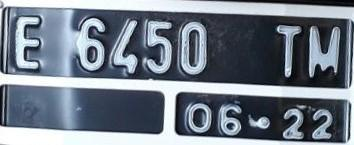clone-license-plate: (3, 5, 353, 143)
